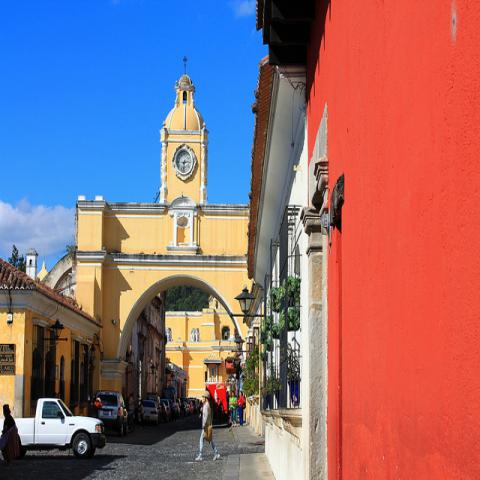car: (145, 393, 166, 422), (162, 388, 180, 420), (138, 400, 159, 427), (160, 397, 172, 414), (180, 401, 190, 417), (161, 403, 169, 421), (191, 398, 197, 412)
truck: (13, 398, 106, 460), (94, 389, 128, 435)
